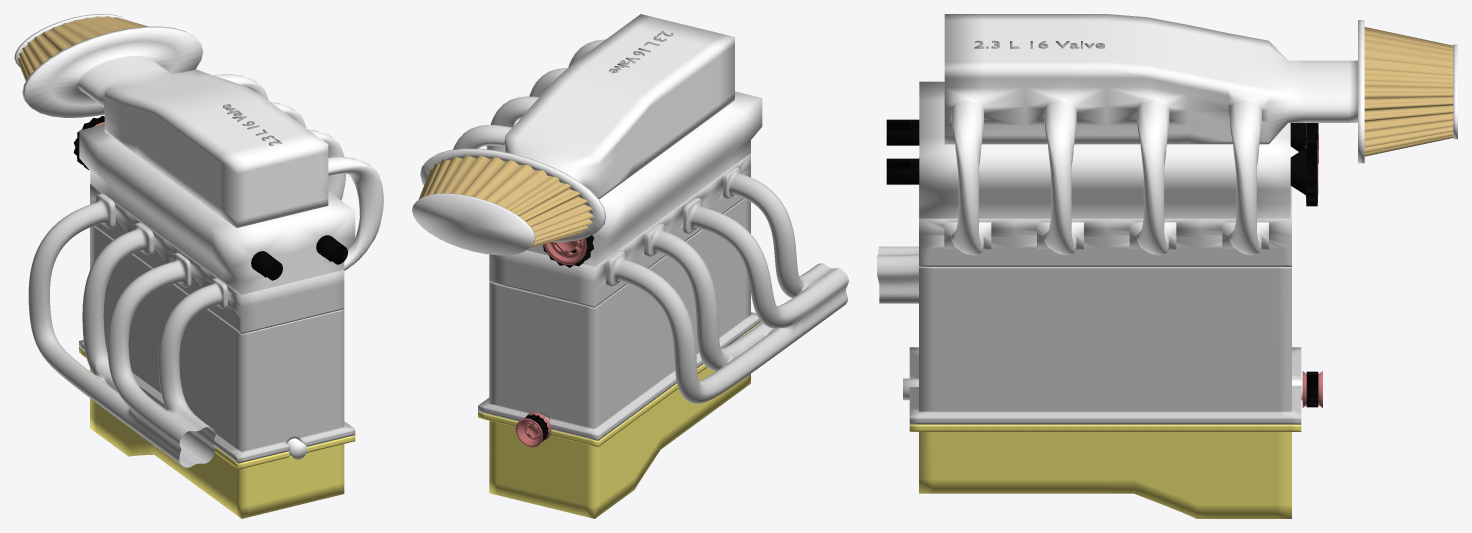
The model's file is engine 1.fbx.
3 views of the same model, side by side, from view 1: azimuth 30°, elevation 25°; view 2: azimuth 150°, elevation 25°; view 3: azimuth 270°, elevation 25° (orthographic). The views are drawn at different scales.
Visible parts, largest first — view 1: intake, block, exhaust, valve cover, oil pan, head, air filter, cam int, cam exh; view 2: intake, block, exhaust, oil pan, valve cover, air filter, head, cam pulley int, crank pulley; view 3: intake, block, oil pan, valve cover, head, air filter, exhaust, cam int, cam exh, cam gears exh.
Part boxes in pixels (<box>): intake: <box>14,14,383,270</box>; block: <box>79,226,355,463</box>; exhaust: <box>28,193,227,467</box>; valve cover: <box>79,124,355,294</box>; oil pan: <box>79,347,355,518</box>; head: <box>90,184,344,333</box>; air filter: <box>18,16,147,80</box>; cam int: <box>316,235,347,264</box>; cam exh: <box>251,251,282,280</box>; intake: <box>412,14,734,255</box>; block: <box>478,198,760,440</box>; exhaust: <box>605,167,848,403</box>; oil pan: <box>478,321,761,518</box>; valve cover: <box>527,91,762,266</box>; air filter: <box>418,155,594,247</box>; head: <box>489,153,750,307</box>; cam pulley int: <box>543,238,586,264</box>; crank pulley: <box>515,412,551,447</box>; intake: <box>944,14,1457,255</box>; block: <box>909,267,1301,424</box>; oil pan: <box>909,424,1301,518</box>; valve cover: <box>919,81,1290,218</box>; head: <box>919,157,1291,266</box>; air filter: <box>1364,27,1453,156</box>; exhaust: <box>877,246,918,303</box>; cam int: <box>886,148,1306,194</box>; cam exh: <box>886,119,1306,151</box>; cam gears exh: <box>1306,137,1317,206</box>.
Bounding box in the file's own units: 1469 × 2133 × 2508.
